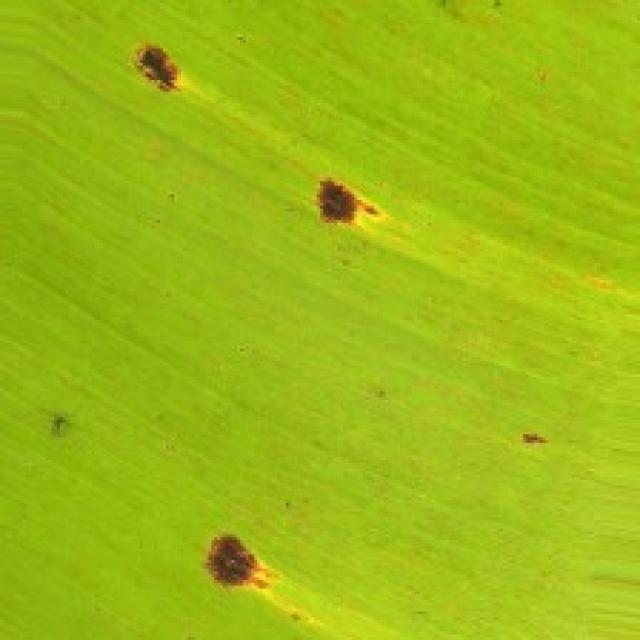Bacterial_spot: (194, 504, 298, 602), (310, 163, 397, 243), (125, 28, 196, 116), (34, 412, 89, 459), (513, 414, 550, 458)
